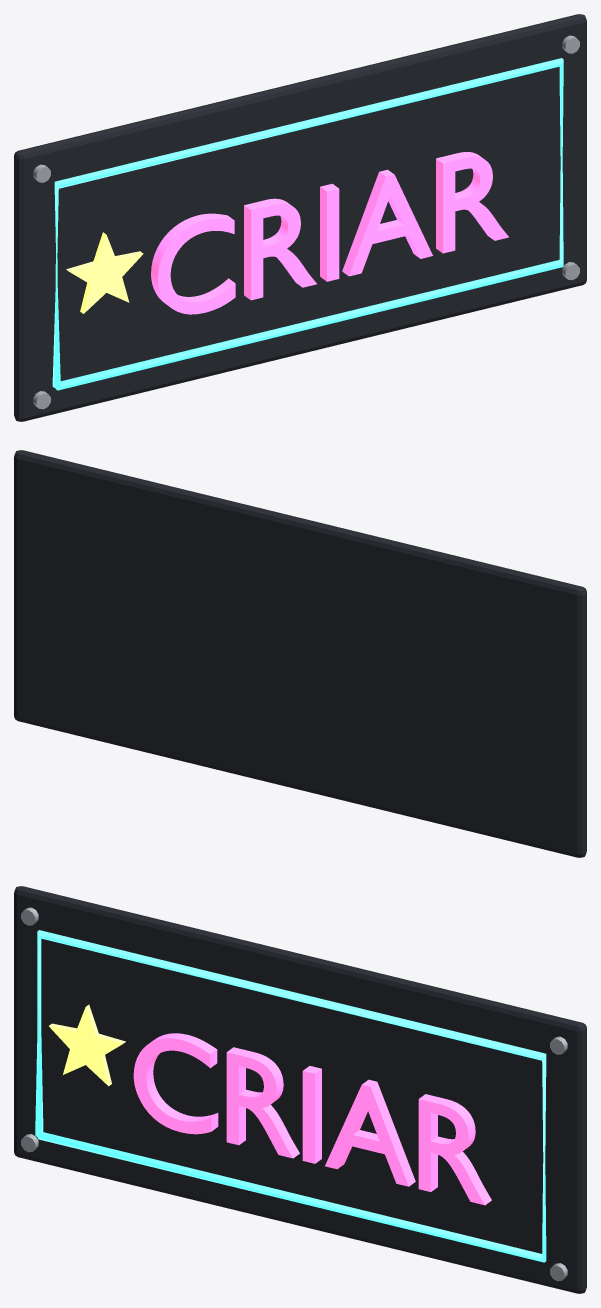
File: letreiro-neon.glb
The picture shows the model from 3 angles, top to bottom: view 1: azimuth 30°, elevation 25°; view 2: azimuth 150°, elevation 25°; view 3: azimuth 330°, elevation 25°; orthographic projection.
Visible parts, largest first — view 1: letreiro-neon; view 2: letreiro-neon; view 3: letreiro-neon.
Part boxes in pixels (left/top/right/bottom): letreiro-neon: left=14, top=14, right=586, bottom=421; letreiro-neon: left=14, top=450, right=586, bottom=857; letreiro-neon: left=14, top=886, right=586, bottom=1293.
Size of the model in its own units: 1.9 by 0.86 by 0.09.
